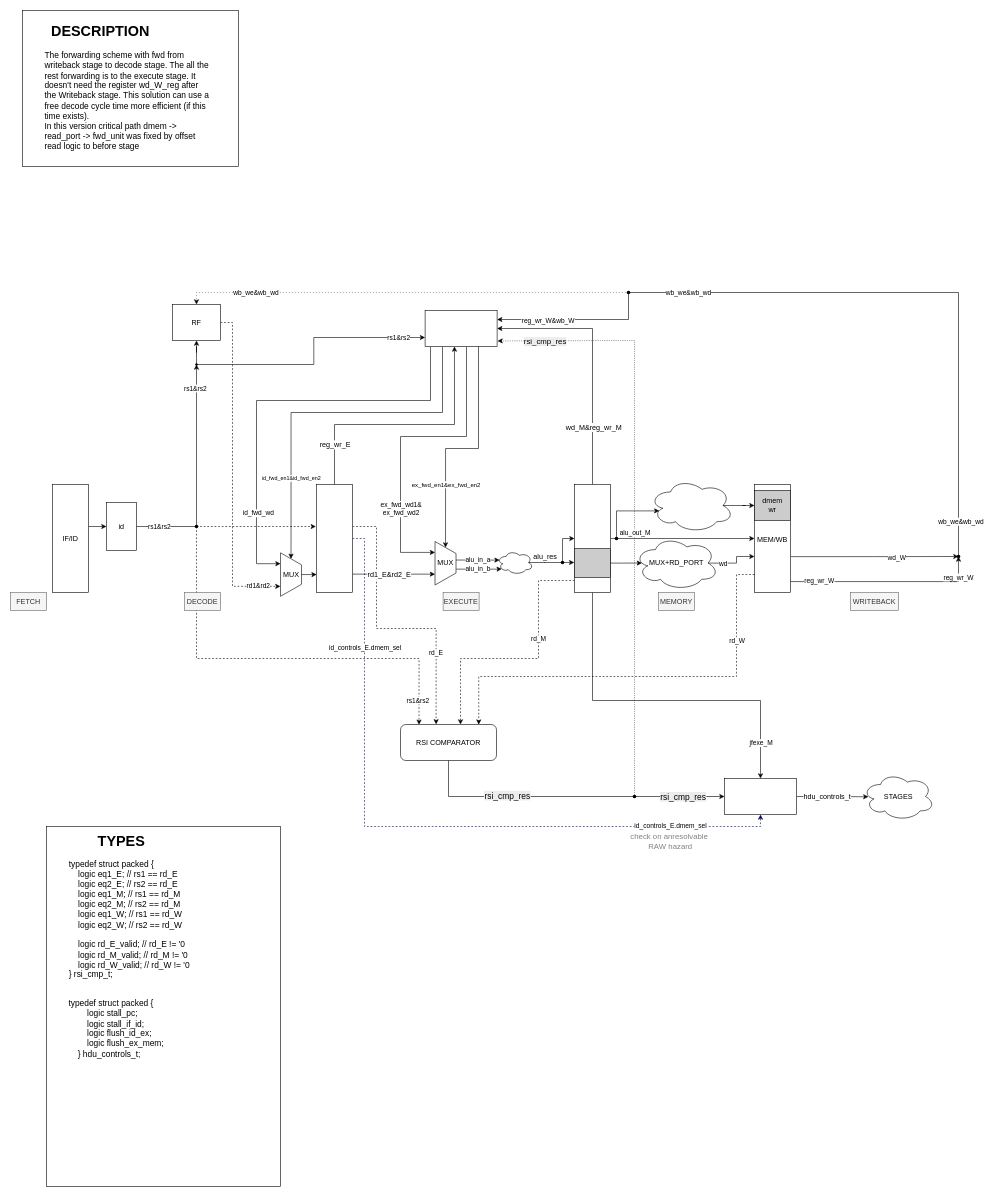
This 994x1197 diagram has some shape labels left out. The shapes that lost their labels are listed below. From the top down, each one's box as (x1, y1, x2, y2) in pixels, then its label:
(424, 310, 497, 346): FWD_UNIT
(649, 478, 734, 532): MUX+WR_PORT
(316, 484, 352, 592): ID/EX
(574, 484, 610, 592): EX/MEM
(496, 550, 533, 574): ALU
(574, 548, 610, 578): dmem rd
(724, 778, 796, 814): HDU
